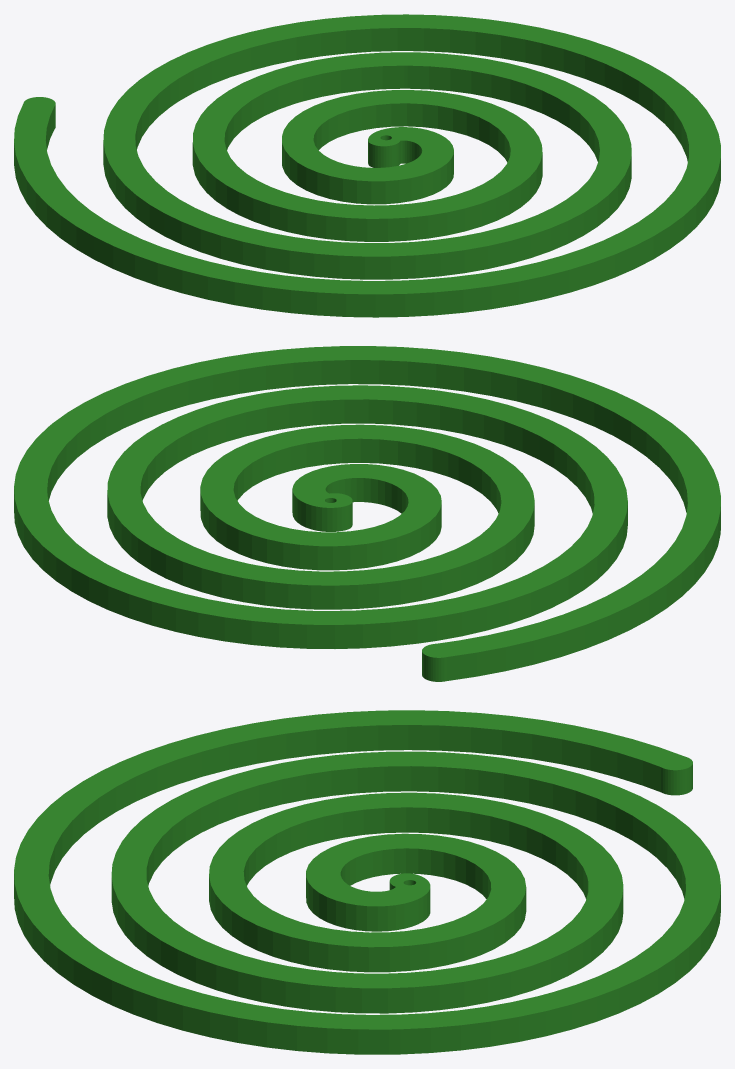
The model's file is katori.dae.
3 renders of one model, top to bottom at view 1: azimuth 30°, elevation 25°; view 2: azimuth 150°, elevation 25°; view 3: azimuth 270°, elevation 25°, orthographic. The views are drawn at different scales.
Visible parts, largest first — view 1: 蚊取り線香_; view 2: 蚊取り線香_; view 3: 蚊取り線香_.
Part boxes in pixels (x1,y1,x2,y2): 蚊取り線香_: (14, 14, 720, 317); 蚊取り線香_: (14, 346, 720, 681); 蚊取り線香_: (14, 710, 720, 1054).
Bounding box in the file's own units: 109 × 4 × 102.
